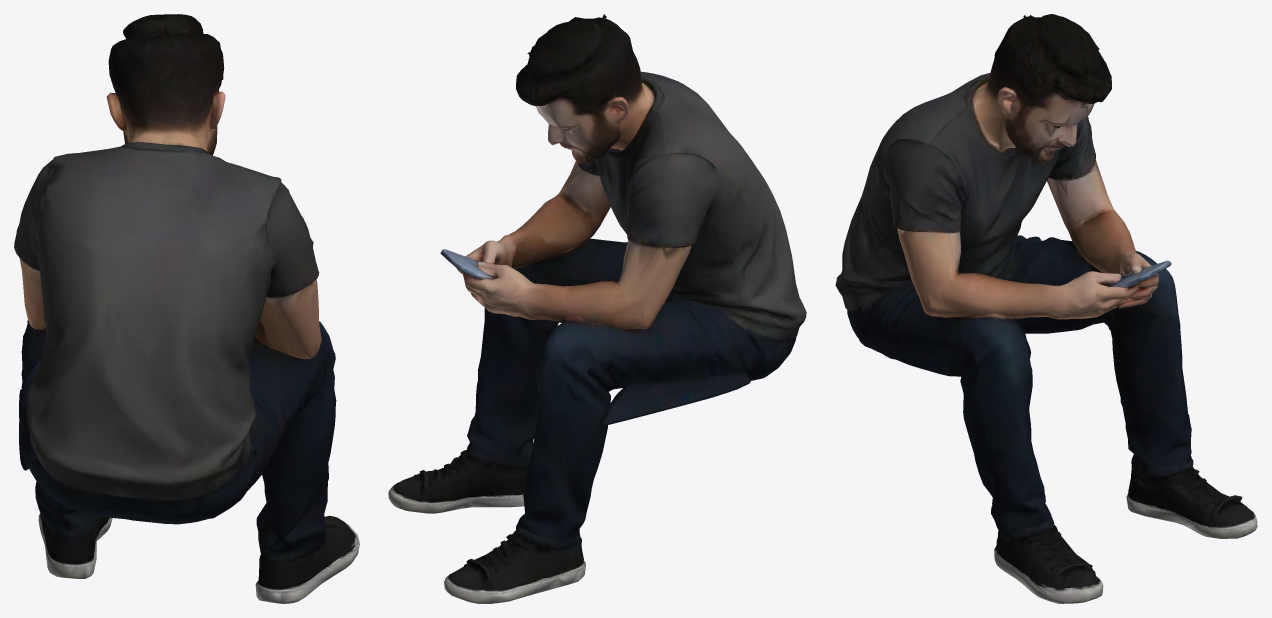
Rendered from person.1dd5a833d3c4.glb.
The picture shows the model from 3 angles, left to right: view 1: azimuth 30°, elevation 25°; view 2: azimuth 150°, elevation 25°; view 3: azimuth 270°, elevation 25°; orthographic projection. The views are drawn at different scales.
Visible parts, largest first — view 1: tripo_node_86fedbb6-fb50-45f9-b473-be2c9afc84cf; view 2: tripo_node_86fedbb6-fb50-45f9-b473-be2c9afc84cf; view 3: tripo_node_86fedbb6-fb50-45f9-b473-be2c9afc84cf.
Boxes of the visible parts, bbox=[...] form: tripo_node_86fedbb6-fb50-45f9-b473-be2c9afc84cf: bbox=[14, 14, 359, 603]; tripo_node_86fedbb6-fb50-45f9-b473-be2c9afc84cf: bbox=[388, 14, 806, 603]; tripo_node_86fedbb6-fb50-45f9-b473-be2c9afc84cf: bbox=[835, 14, 1257, 603].
Bounding box in the file's own units: 0.6809 × 0.9804 × 0.741.
1 material, 1 textured.
